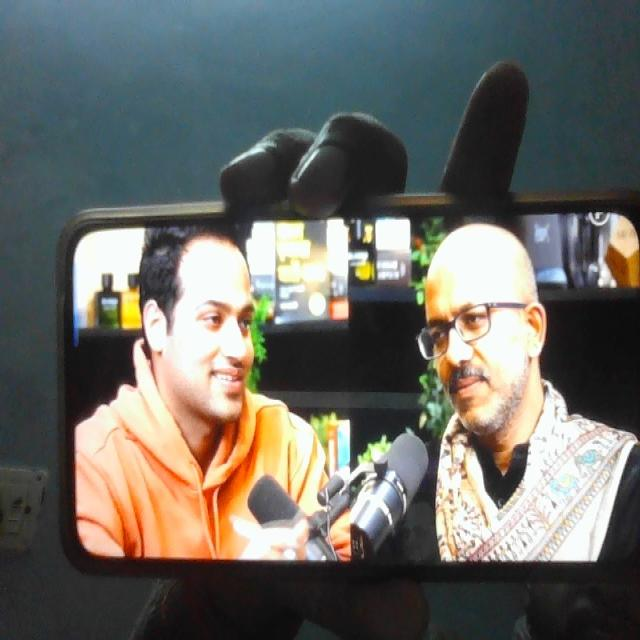fake: (418, 207, 548, 453)
